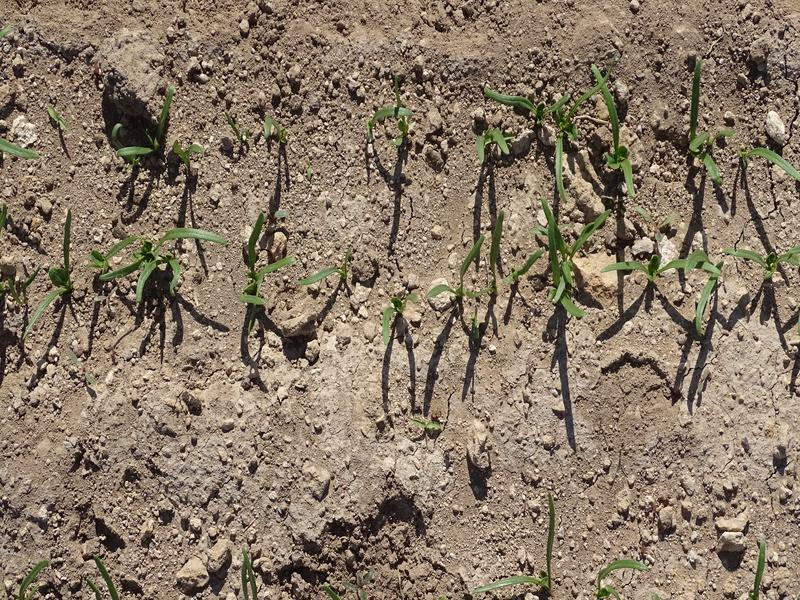Espinaca: (607, 223, 796, 315), (497, 73, 586, 195), (93, 224, 226, 296), (19, 209, 80, 337), (110, 93, 200, 173), (526, 200, 589, 314), (593, 71, 640, 192), (679, 67, 729, 179), (440, 234, 507, 304), (236, 220, 286, 310), (376, 289, 420, 341), (309, 254, 358, 292)
